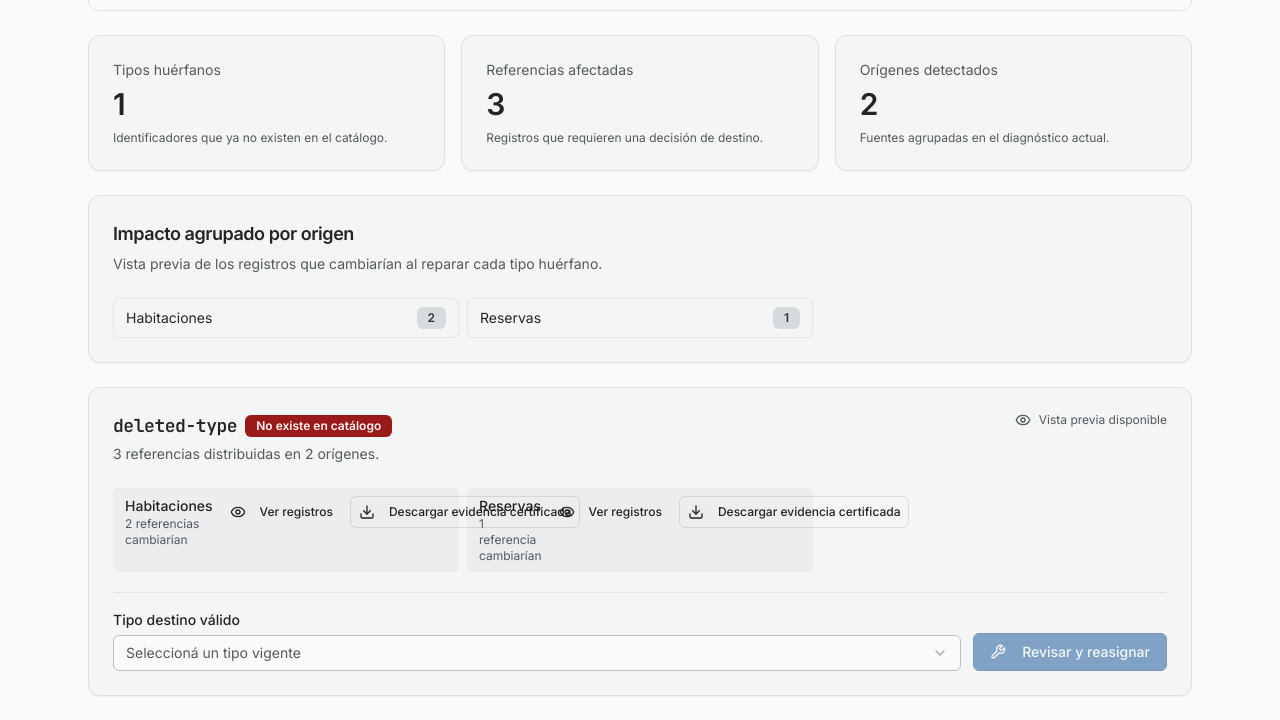
Scenario: reparación de integridad de tipos de habitación › permite seleccionar un destino y confirmar la reparación desde la vista del manager
This screenshot has width=1280, height=720.
(page scrolled)
Step 1. Click the dropdown labelled "Seleccioná un tipo vigente" → (213, 652), box [113,635,961,671]
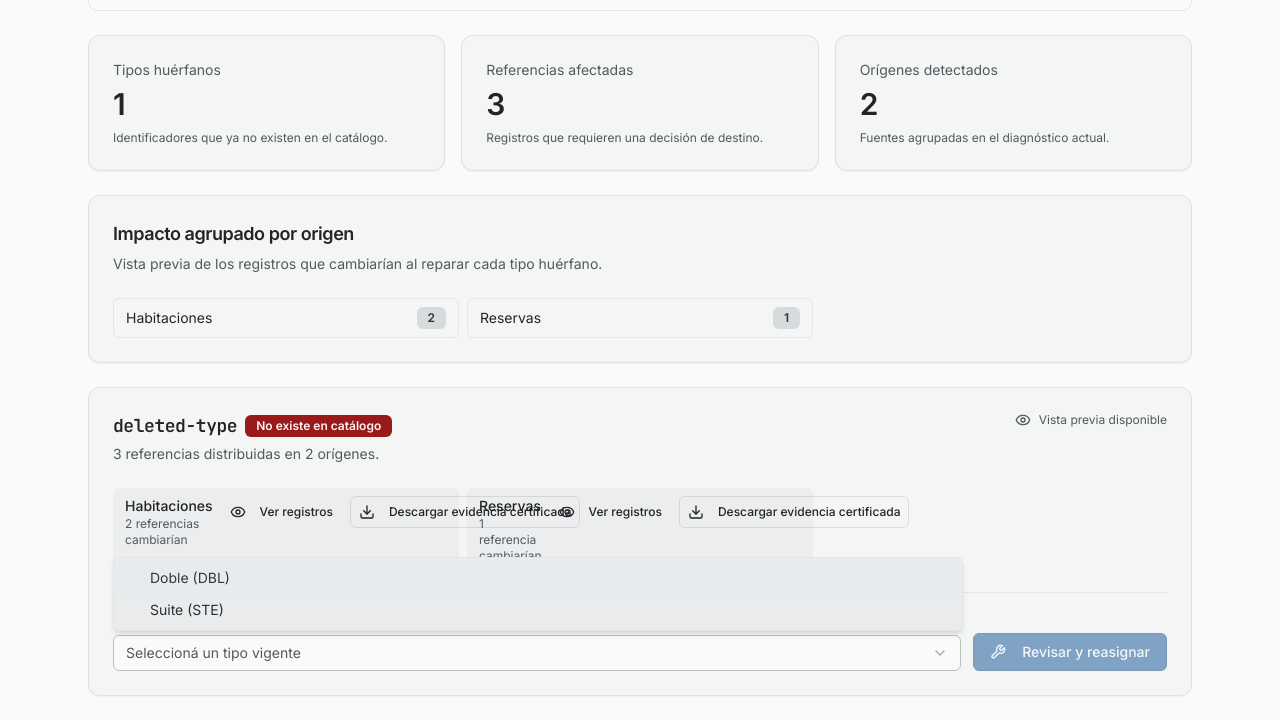
Step 2. Click the option "Doble (DBL)" → (169, 578), box [118,562,958,594]
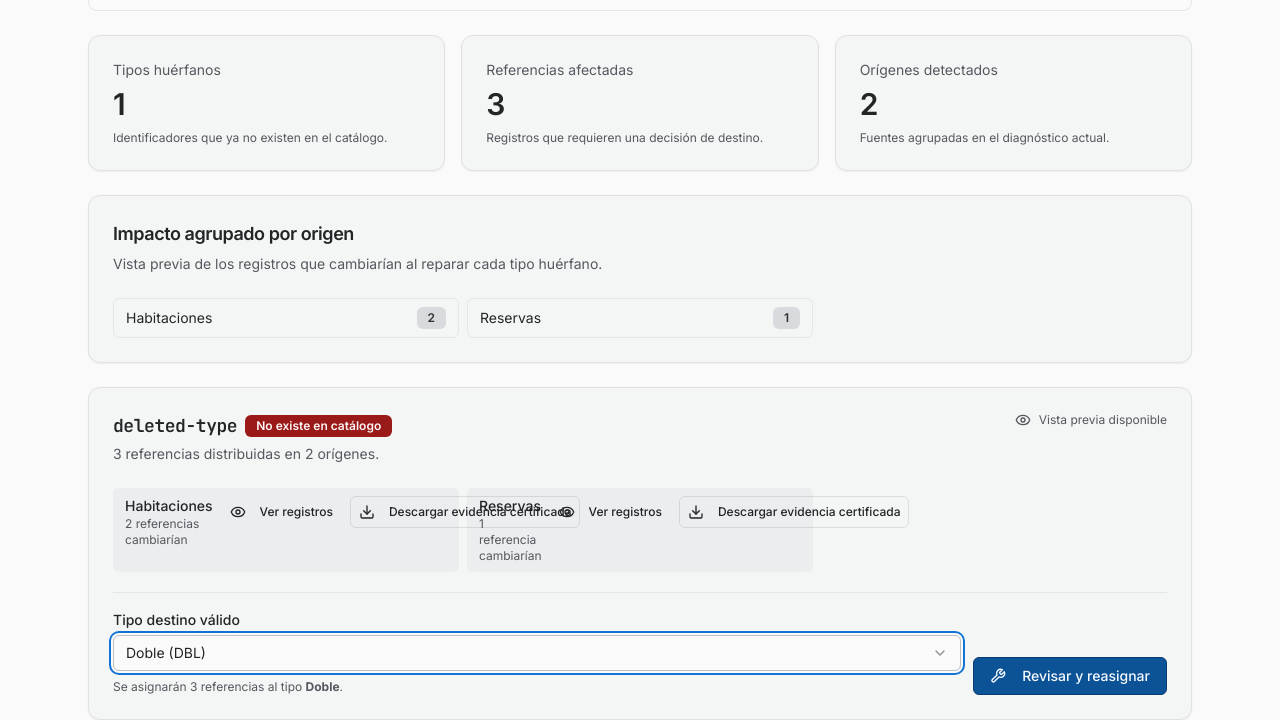
Step 3. Click the button "Revisar y reasignar" → (1070, 676), box [973,657,1167,695]
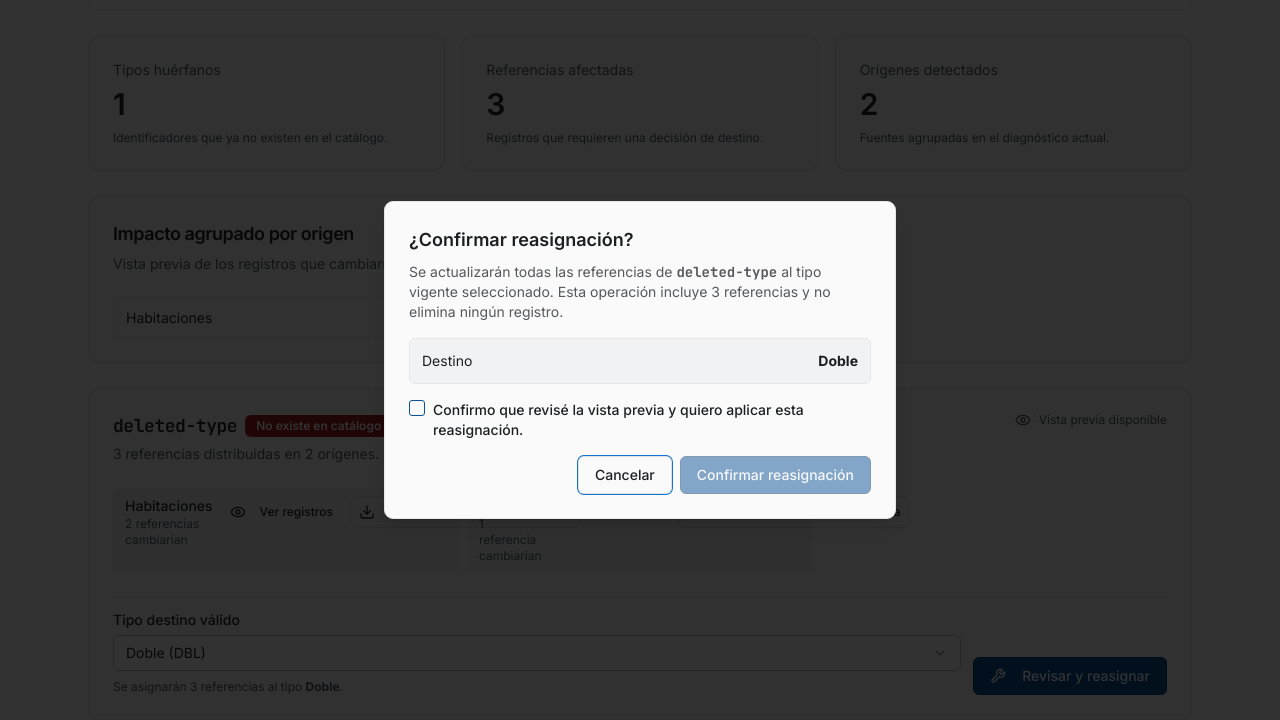
Now the dialog is shown, box [384,201,896,519]
Now the button with test id "button-confirm-room-type-repair" is disabled, box [680,456,871,494]
Step 4. Click the checkbox with test id "checkbox-confirm-room-type-repair" → (417, 408), box [409,400,425,416]
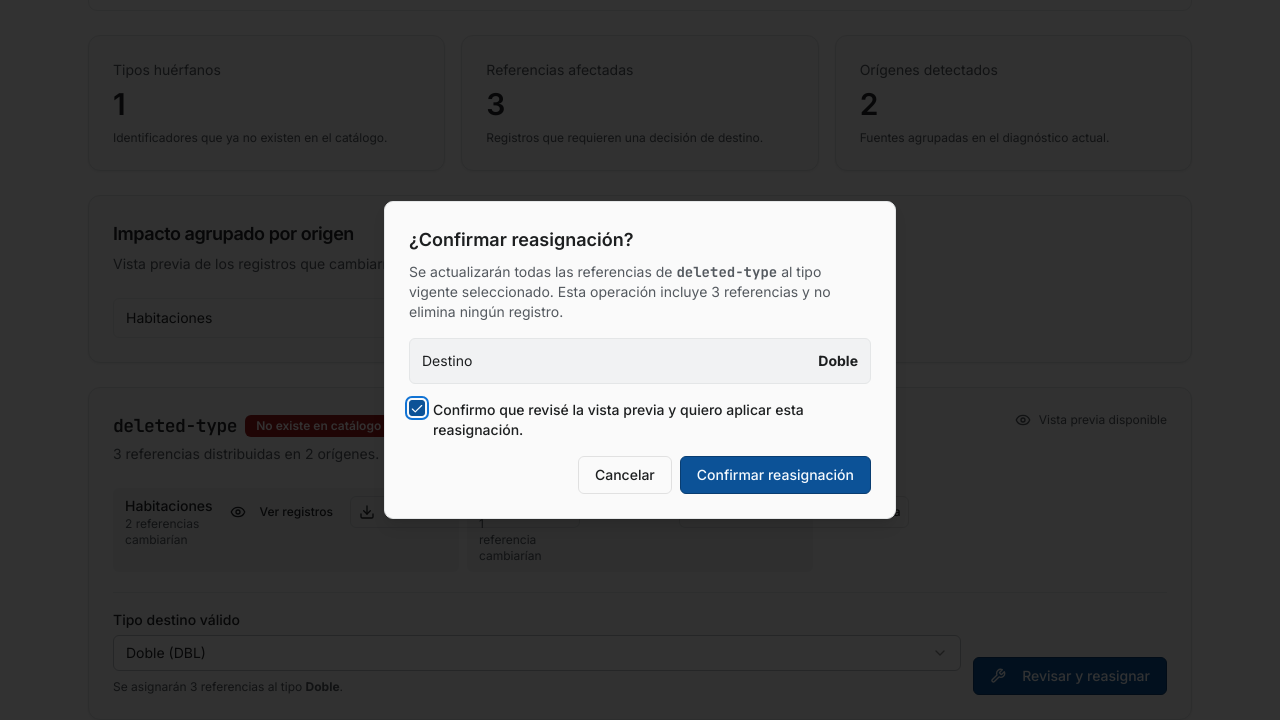
Step 5. Click the button with test id "button-confirm-room-type-repair" → (775, 475), box [680,456,871,494]
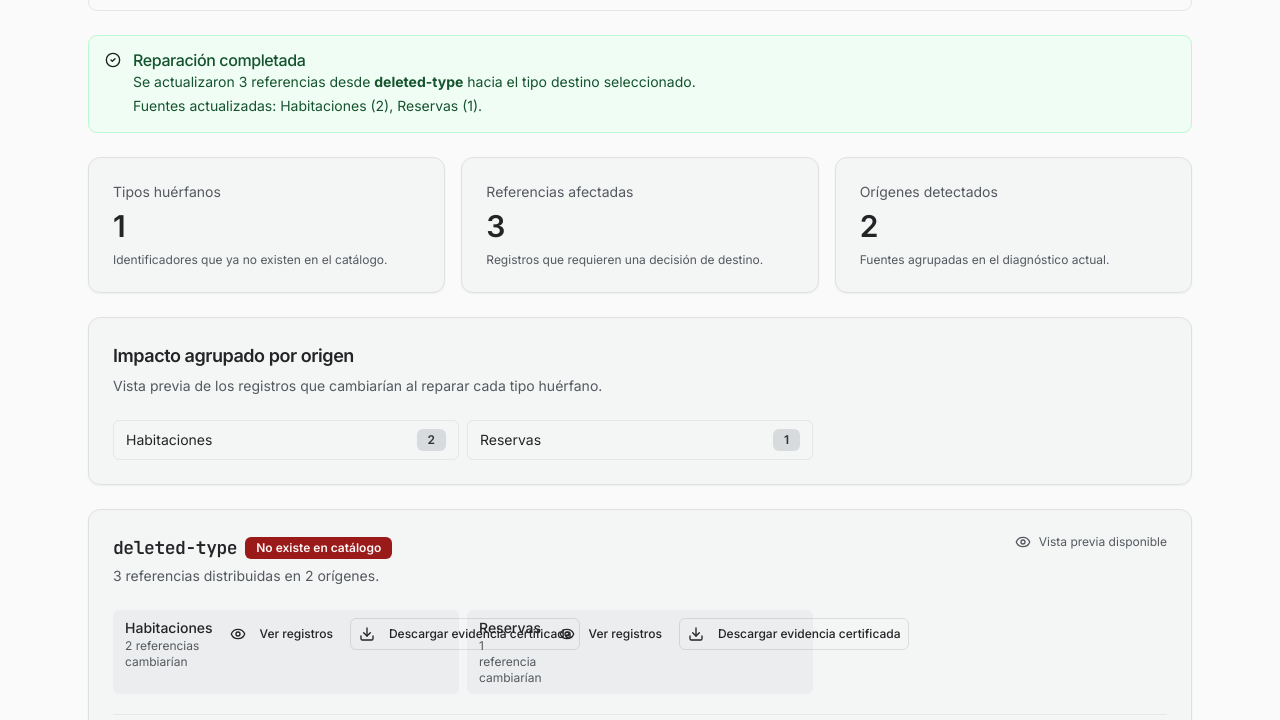
Now the heading "Reparación completada" is shown, box [133,50,305,70]
Now the text "Se actualizaron 3 referencias" is shown, box [133,73,696,114]
